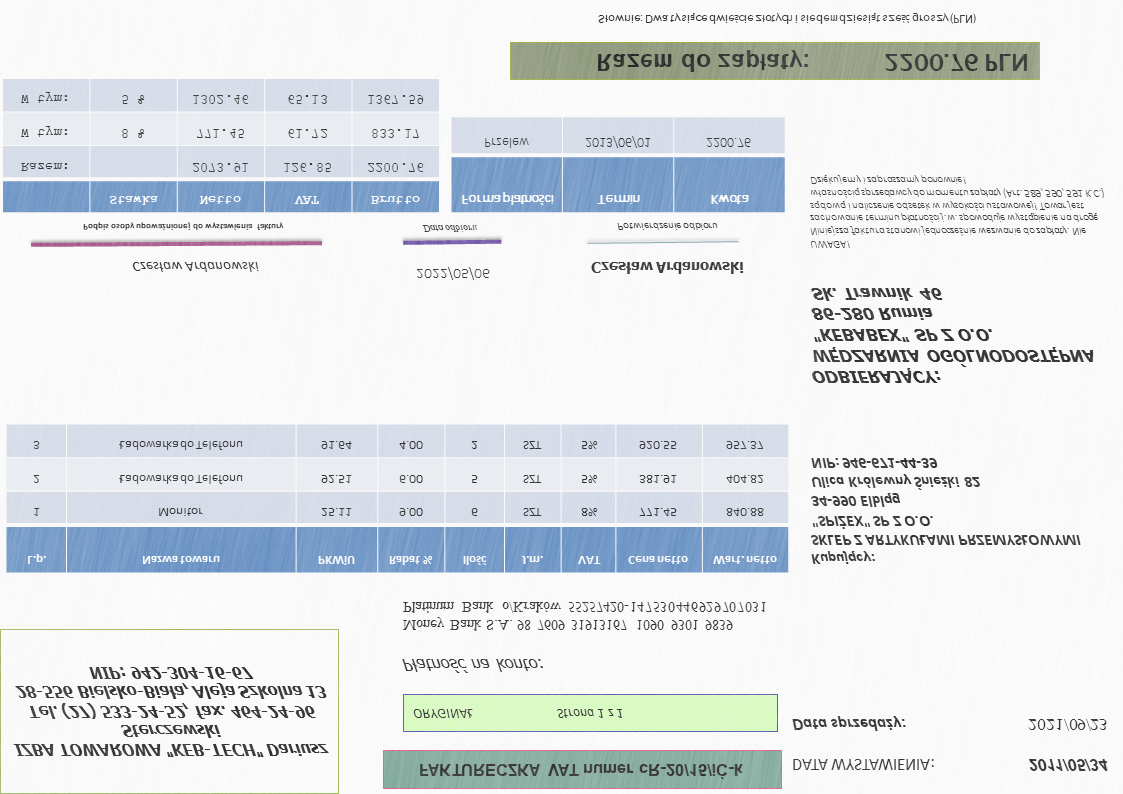Table: (4, 422, 791, 576), (1, 77, 441, 215), (449, 115, 787, 216)
TextBox: (807, 453, 1086, 570), (10, 661, 330, 763), (808, 283, 1098, 387), (807, 172, 1107, 254), (398, 598, 770, 636), (593, 47, 1031, 76), (594, 9, 979, 28), (417, 760, 747, 782), (409, 704, 625, 725), (398, 654, 546, 677), (587, 258, 747, 279), (78, 220, 287, 235), (789, 755, 936, 776), (130, 258, 262, 278), (790, 713, 908, 735), (1026, 755, 1111, 776), (1025, 715, 1109, 735), (613, 219, 720, 234), (414, 264, 491, 283), (418, 222, 480, 236)
